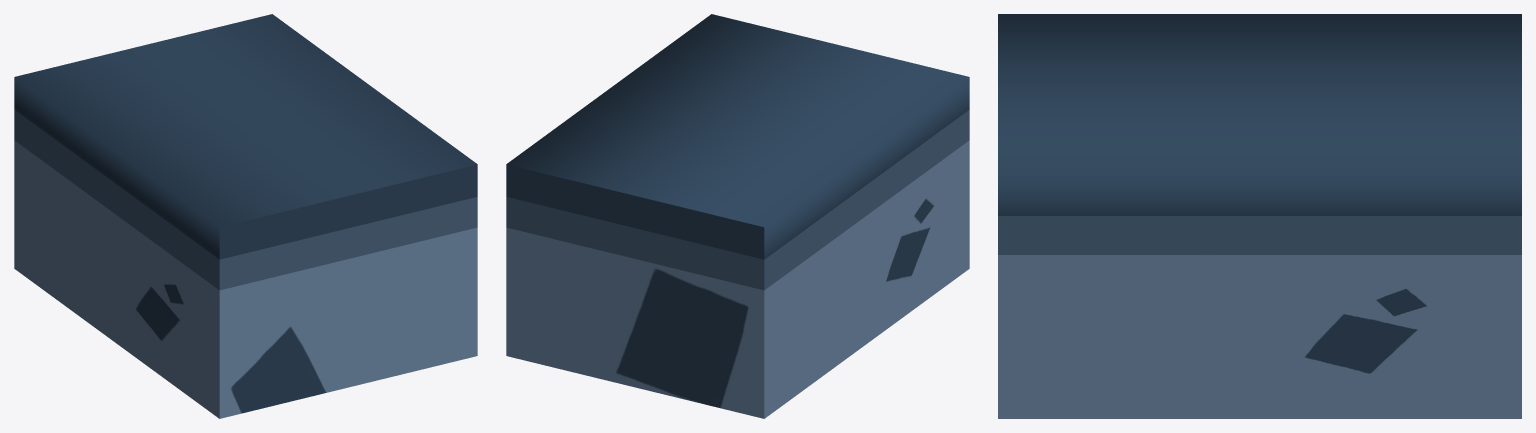
The model's file is Rock.fbx.
The picture shows the model from 3 angles, left to right: view 1: azimuth 30°, elevation 25°; view 2: azimuth 150°, elevation 25°; view 3: azimuth 270°, elevation 25°; orthographic projection. The views are drawn at different scales.
Visible parts, largest first — view 1: Land005; view 2: Land005; view 3: Land005.
Boxes of the visible parts, bbox=[...] form: Land005: bbox=[14, 14, 477, 418]; Land005: bbox=[506, 14, 969, 418]; Land005: bbox=[998, 14, 1521, 418].
Size of the model in its own units: 72.83 by 51.65 by 100.
Materials: 1 (1 with a texture image).
